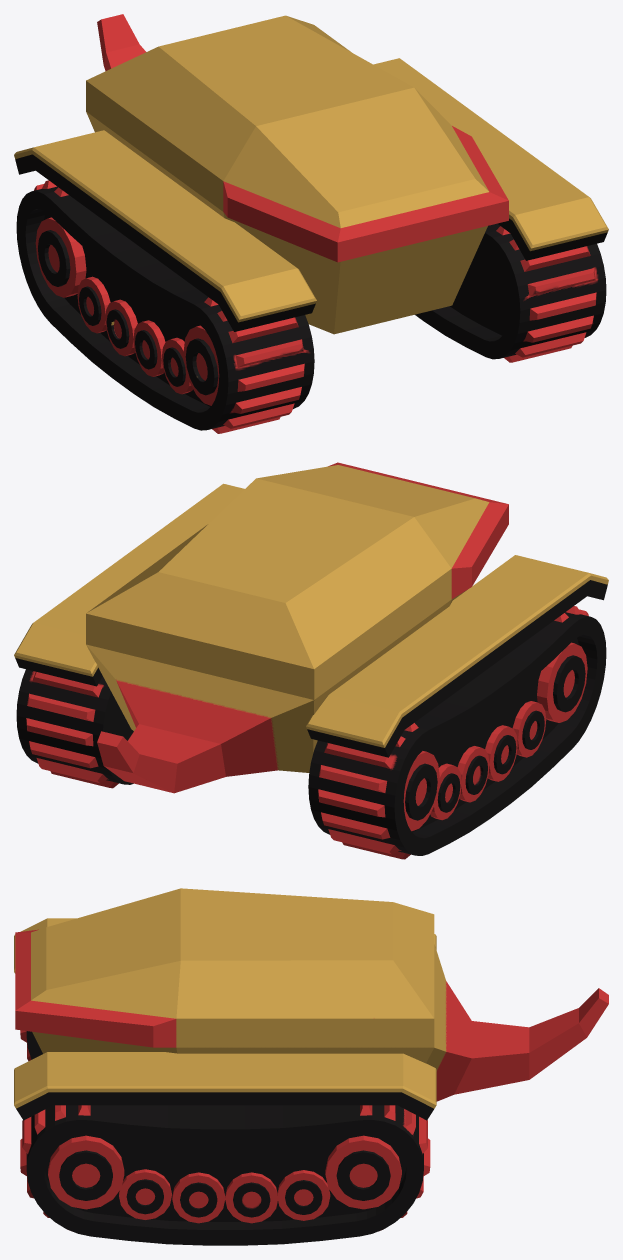
File: tank3.fbx
The picture shows the model from 3 angles, top to bottom: view 1: azimuth 30°, elevation 25°; view 2: azimuth 150°, elevation 25°; view 3: azimuth 270°, elevation 25°; orthographic projection. The views are drawn at different scales.
Visible parts, largest first — view 1: Cube; view 2: Cube; view 3: Cube.
Part boxes in pixels (x1,y1,x2,y2): Cube: (14,14,608,433); Cube: (14,462,608,859); Cube: (14,888,608,1245).
Bounding box in the file's own units: 146 × 92.1 × 212.
Materials: 1 (1 with a texture image).
